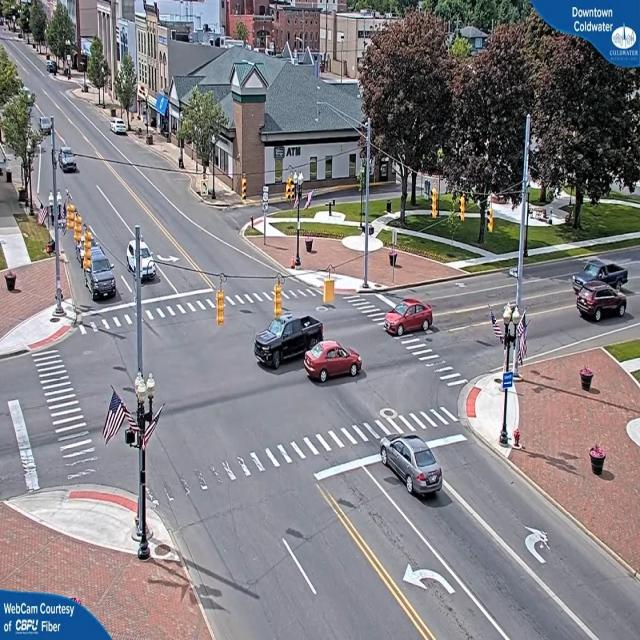car: (256, 311, 326, 367), (382, 434, 442, 497), (574, 274, 628, 324), (303, 342, 362, 386), (381, 296, 433, 339), (82, 242, 117, 299)
